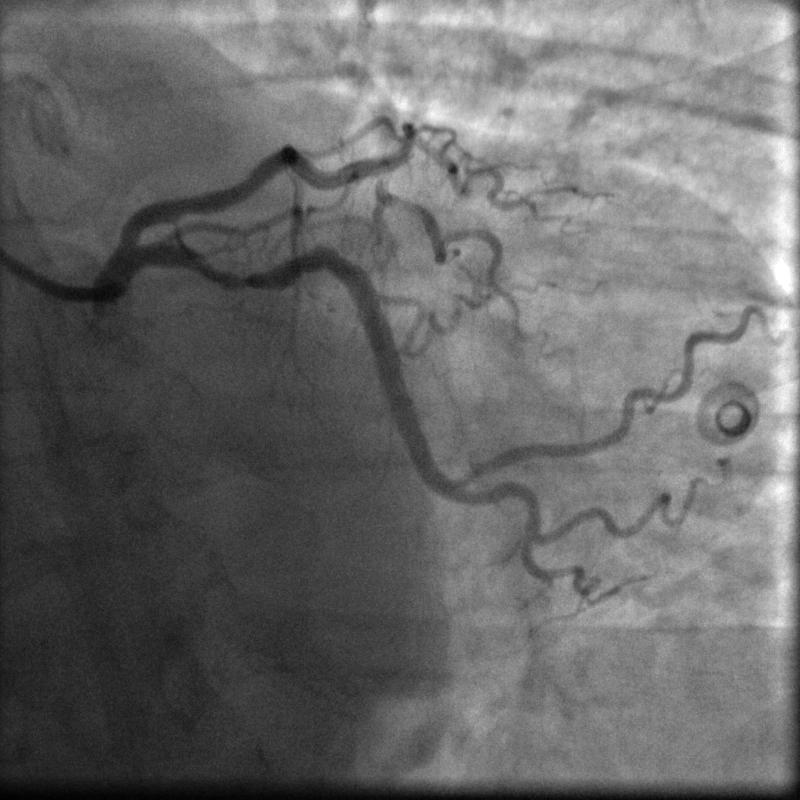Stenosis: (221, 267, 276, 294)
